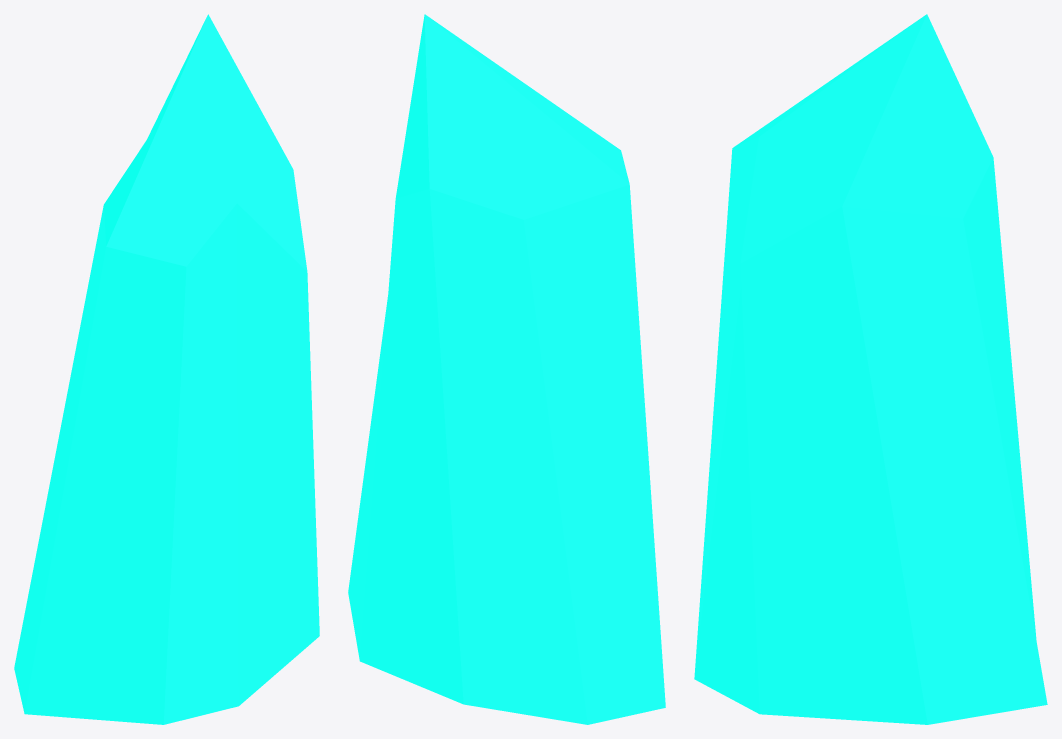
Rendered from crystal2.fbx.
The picture shows the model from 3 angles, left to right: view 1: azimuth 30°, elevation 25°; view 2: azimuth 150°, elevation 25°; view 3: azimuth 270°, elevation 25°; orthographic projection. The views are drawn at different scales.
Visible parts, largest first — view 1: crystal2; view 2: crystal2; view 3: crystal2.
Part boxes in pixels (<box>): crystal2: <box>14,14,319,724</box>; crystal2: <box>348,14,665,724</box>; crystal2: <box>694,14,1047,724</box>.
Size of the model in its own units: 213 by 458 by 198.
